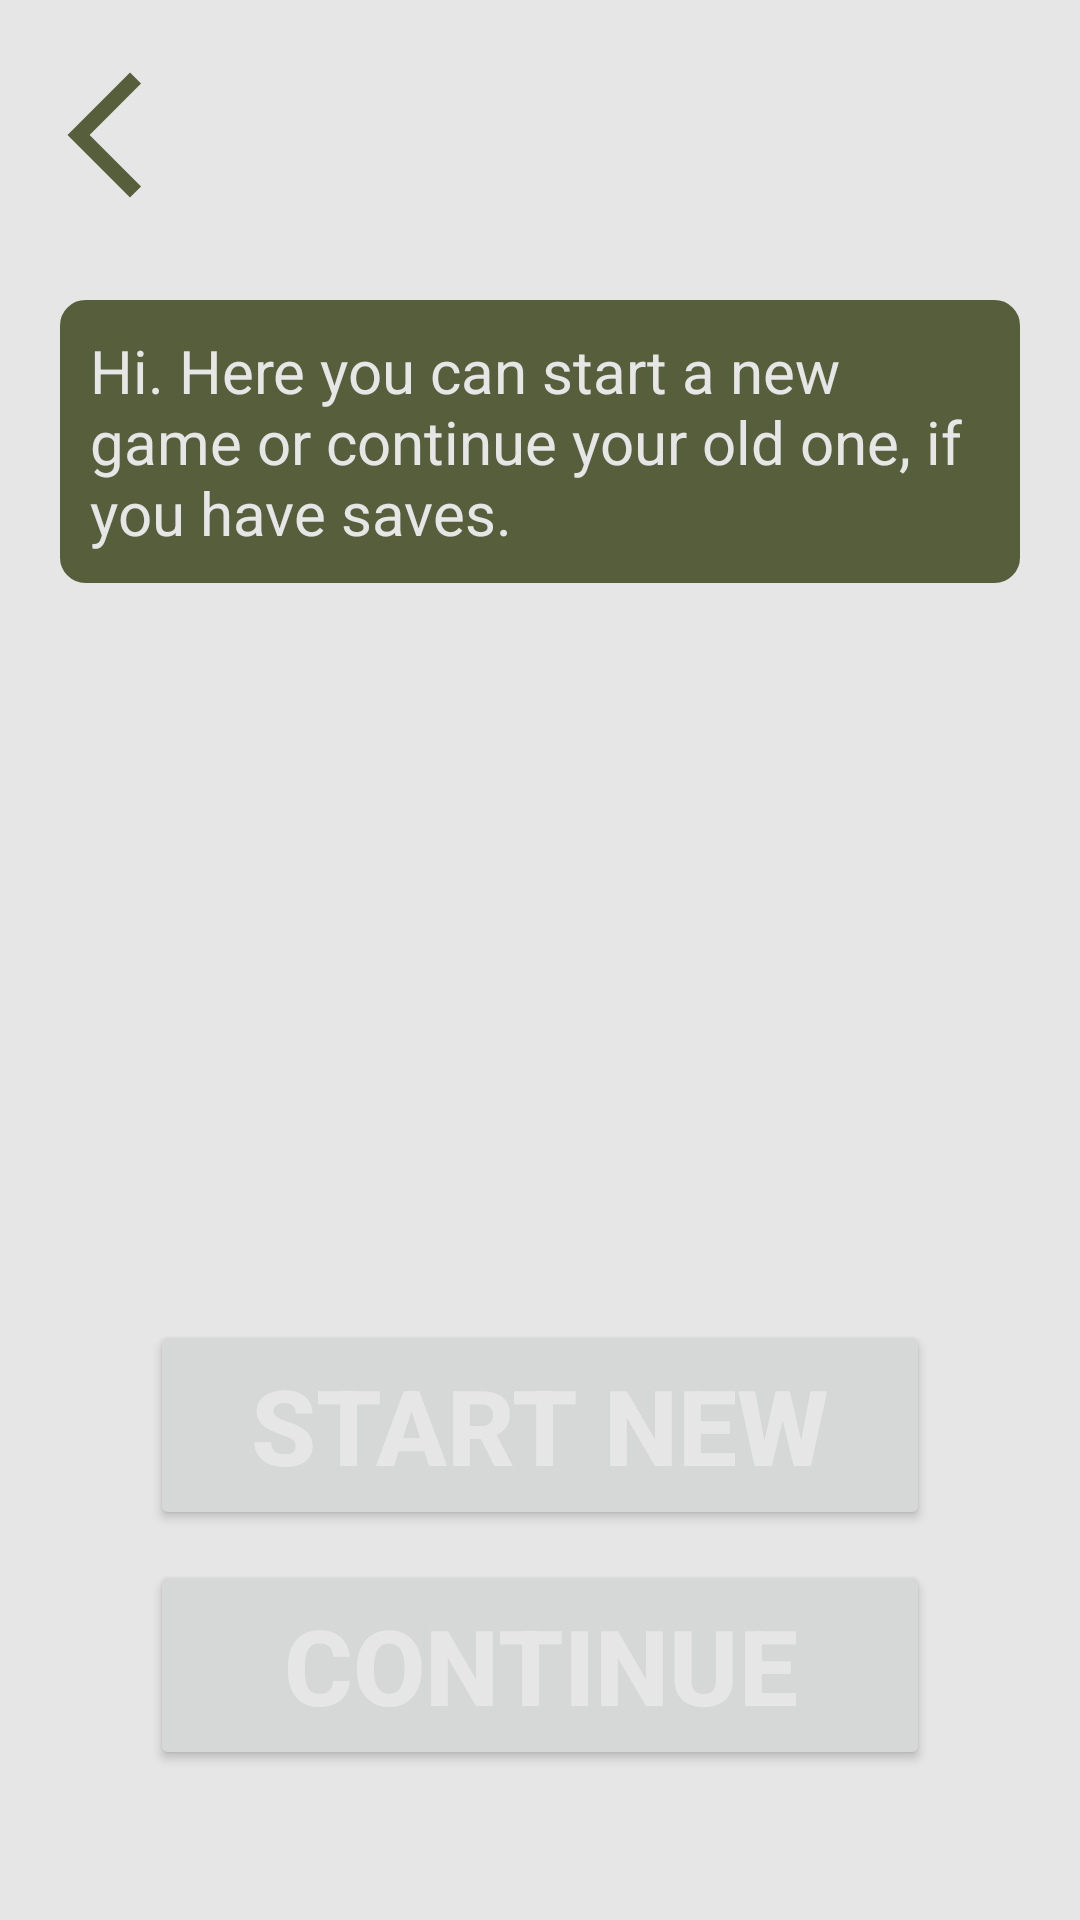

Where icons sit on this 1080 × 1920 app screen, as {"left": x1, "top": y1, "right": x2, "bottom": y2}:
Go back: {"left": 68, "top": 73, "right": 141, "bottom": 197}
